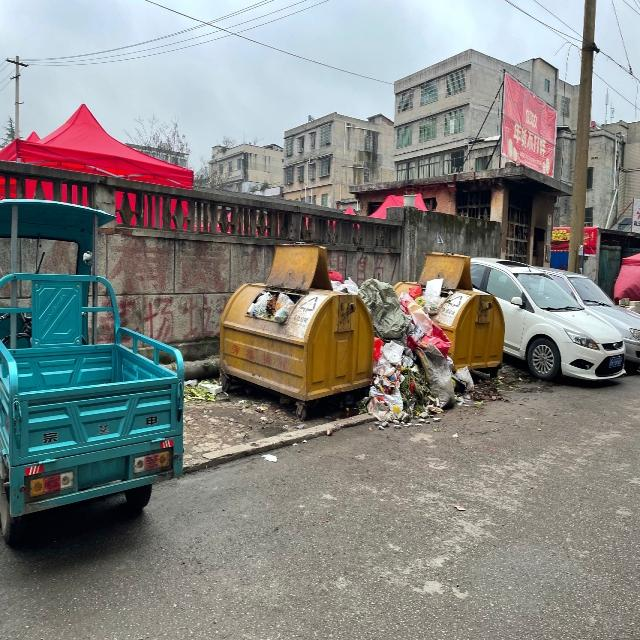garbage: (327, 270, 474, 428)
overflow: (218, 282, 374, 400), (391, 279, 503, 372)
